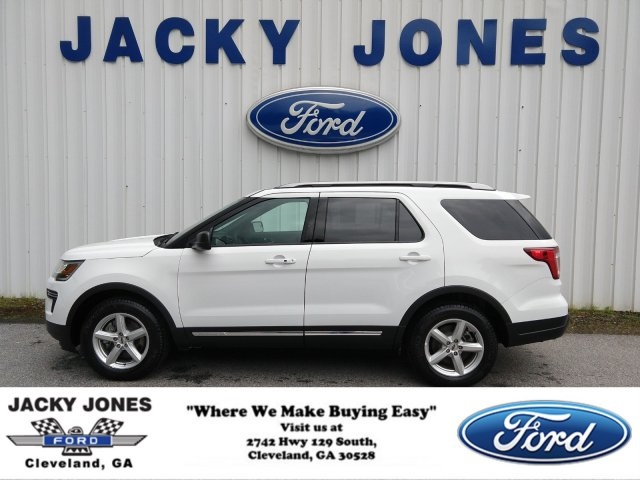Ford Explorer: (45, 181, 569, 387)
